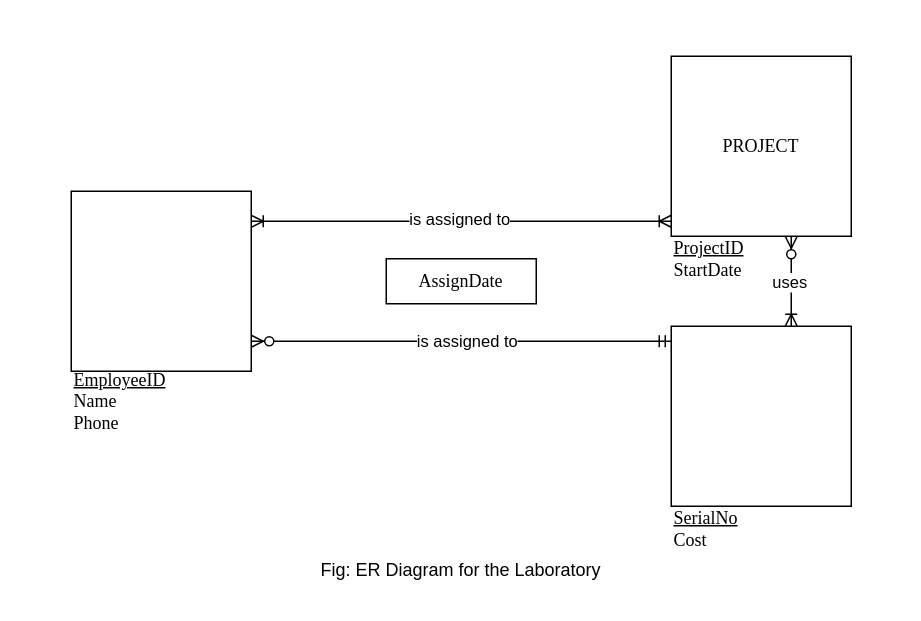
Image size: 921x621. Some labels were removed from this diagram. Here are the shapes that lost their labels. From the top down, the centre of each, then its label:
point (160, 280): CHEMIST
point (760, 415): EQUIPMENT
